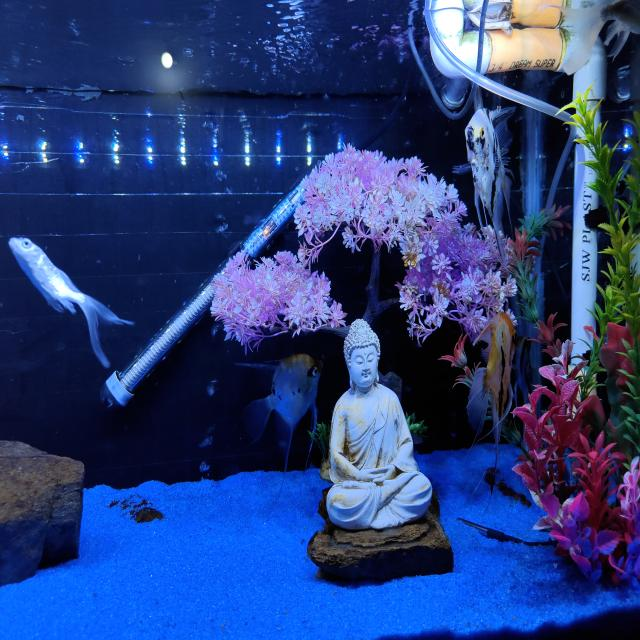Fish: (9, 238, 133, 367), (238, 354, 322, 471), (454, 107, 515, 255), (468, 312, 516, 494), (555, 0, 639, 74)
